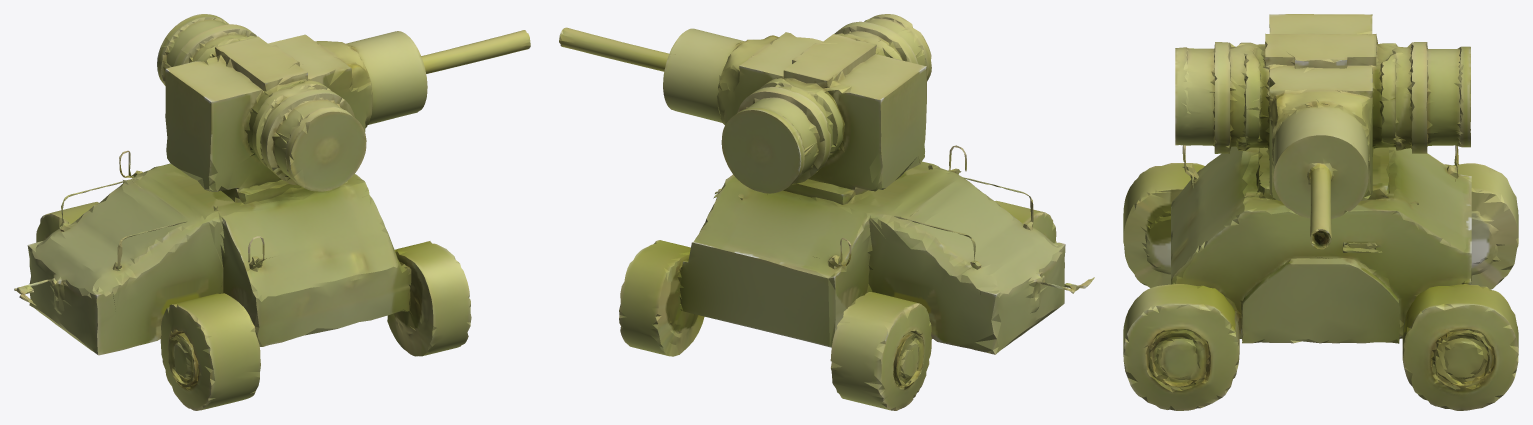
Rendered from centurion_weapon_secondary.glb.
3 renders of one model, left to right at view 1: azimuth 30°, elevation 25°; view 2: azimuth 150°, elevation 25°; view 3: azimuth 270°, elevation 25°, orthographic. The views are drawn at different scales.
Visible parts, largest first — view 1: centurion_weapon_secondary; view 2: centurion_weapon_secondary; view 3: centurion_weapon_secondary.
Part boxes in pixels (bbox=[...]): centurion_weapon_secondary: bbox=[14, 14, 530, 410]; centurion_weapon_secondary: bbox=[559, 14, 1094, 410]; centurion_weapon_secondary: bbox=[1123, 14, 1518, 410].
Bounding box in the file's own units: 1.89 × 0.9459 × 1.13.
Materials: 1 (1 with a texture image).
